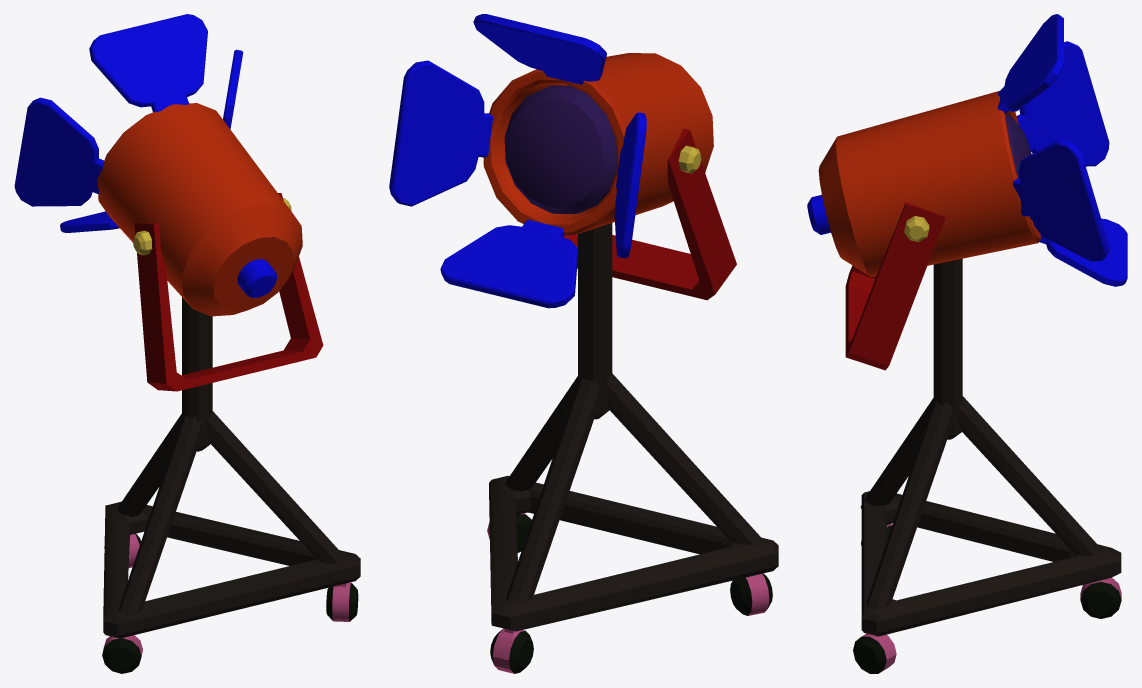
Rendered from Searchlight.FBX.
3 renders of one model, left to right at view 1: azimuth 30°, elevation 25°; view 2: azimuth 150°, elevation 25°; view 3: azimuth 270°, elevation 25°, orthographic. The views are drawn at different scales.
Parts seen in each view (by area): view 1: Searchlight; view 2: Searchlight; view 3: Searchlight.
Boxes of the visible parts, x1=… form: Searchlight: x1=14, y1=14, x2=360, y2=673; Searchlight: x1=389, y1=14, x2=778, y2=673; Searchlight: x1=807, y1=14, x2=1127, y2=673.
Size of the model in its own units: 541 by 562 by 1120.
